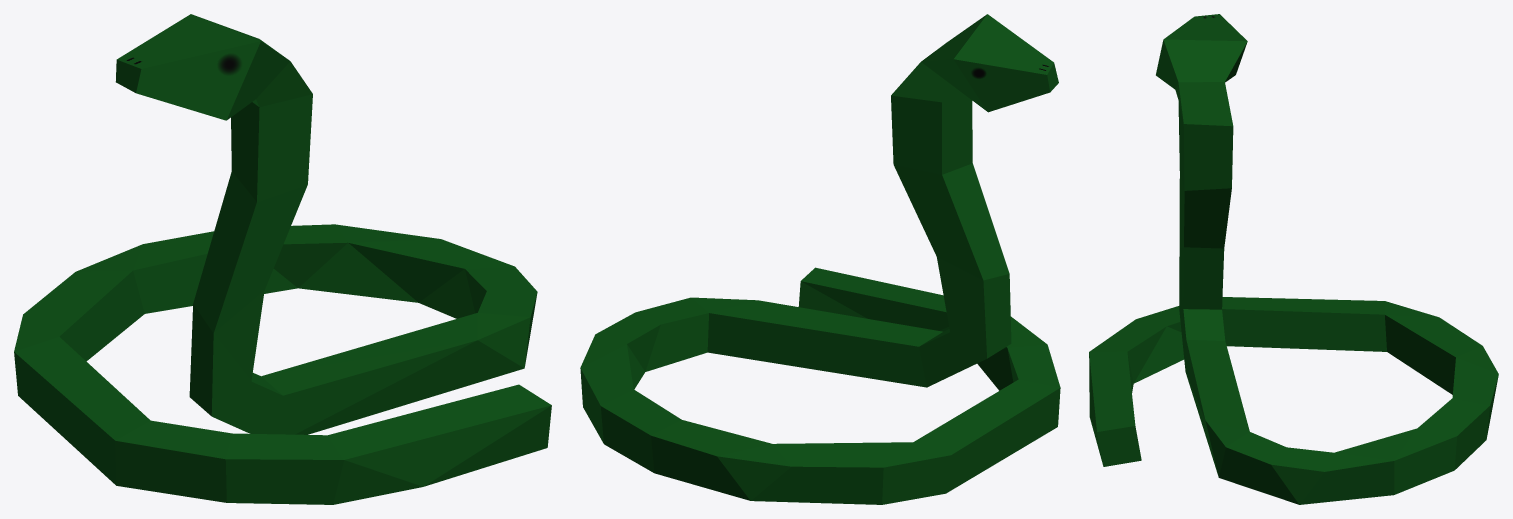
Rendered from LowPolSnakeGLTF.gltf.
3 renders of one model, left to right at view 1: azimuth 30°, elevation 25°; view 2: azimuth 150°, elevation 25°; view 3: azimuth 270°, elevation 25°, orthographic. The views are drawn at different scales.
Parts seen in each view (by area): view 1: Cube; view 2: Cube; view 3: Cube.
Part boxes in pixels (<box>): Cube: <box>14,14,551,504</box>; Cube: <box>580,14,1060,504</box>; Cube: <box>1089,14,1498,504</box>.
Size of the model in its own units: 7.18 by 6.34 by 7.01.
